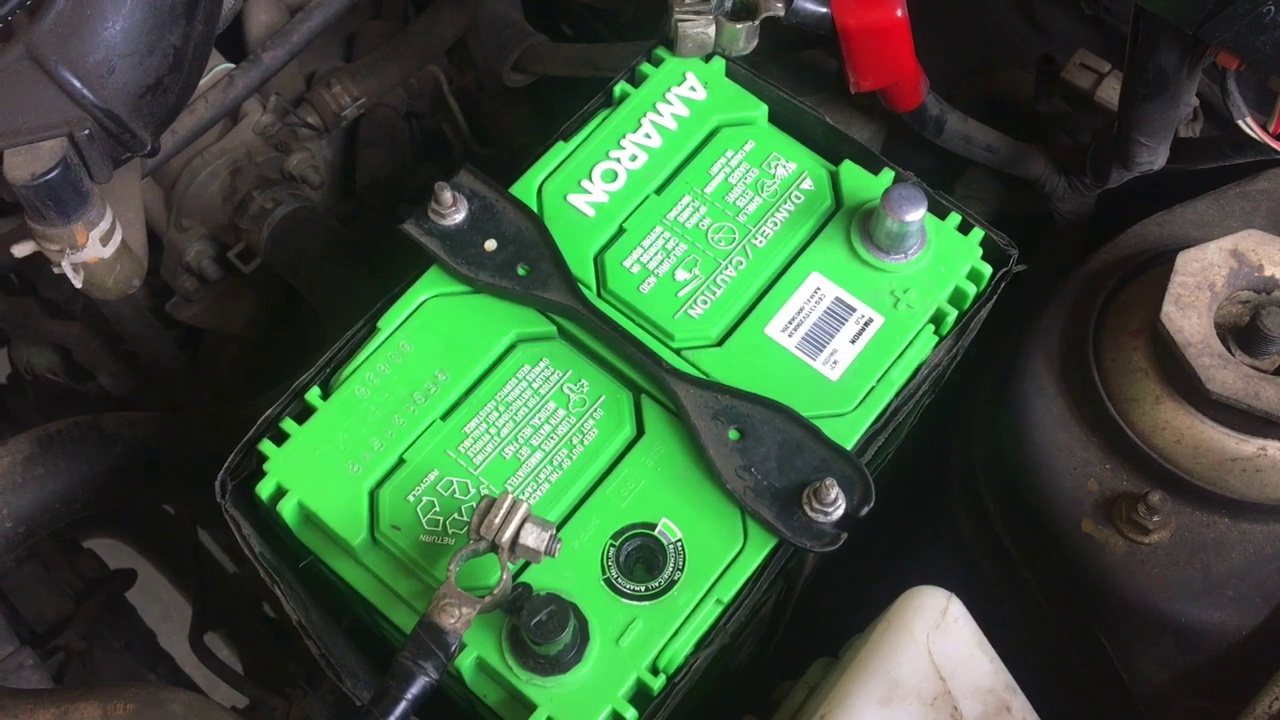battery: (258, 43, 973, 714), (800, 4, 970, 286)
